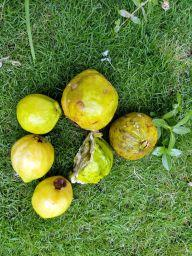guava: (63, 67, 118, 132), (67, 132, 117, 184), (110, 112, 162, 161), (9, 134, 57, 184), (15, 90, 61, 134), (30, 176, 74, 221)
